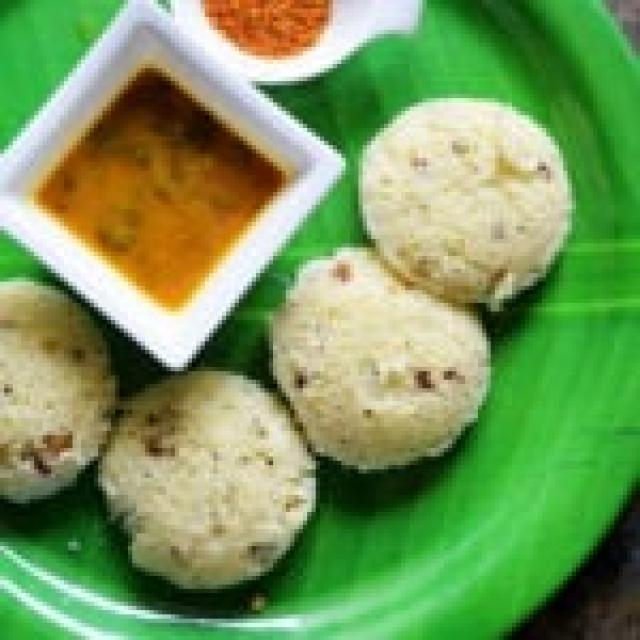rave idli: (272, 239, 497, 477), (97, 367, 323, 602), (357, 85, 582, 314), (0, 277, 111, 508)
